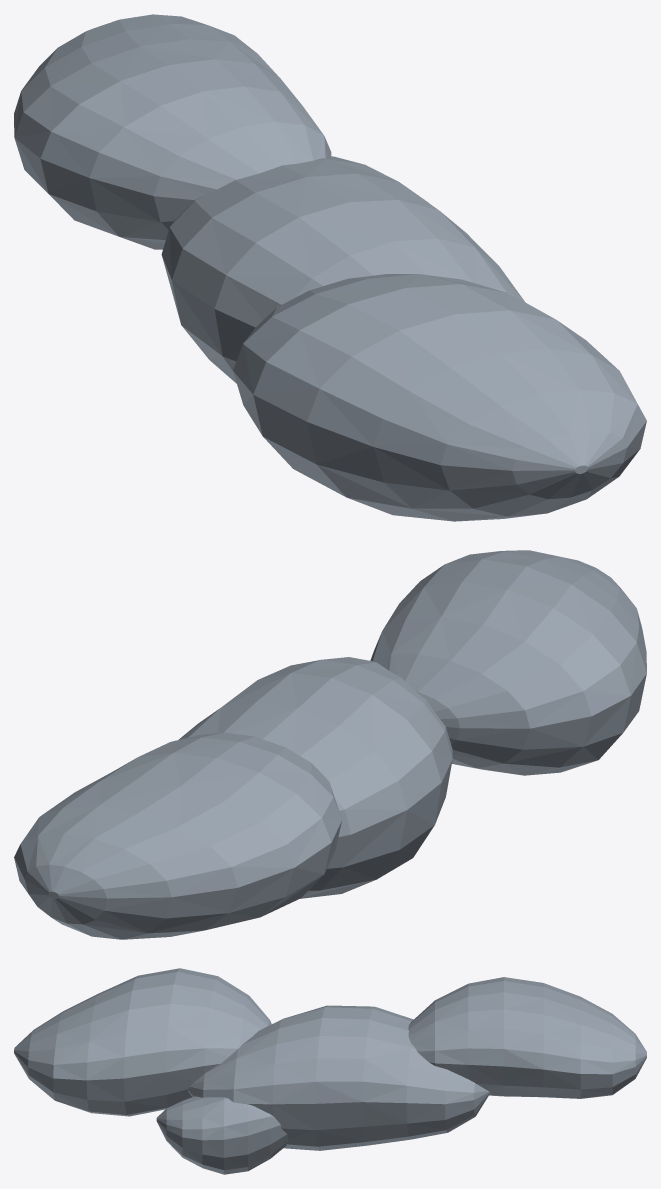
File: storm_rain_scud.glb
3 views of the same model, one above another, from view 1: azimuth 30°, elevation 25°; view 2: azimuth 150°, elevation 25°; view 3: azimuth 270°, elevation 25° (orthographic). The views are drawn at different scales.
Parts seen in each view (by area): view 1: Low rain scud descending fold 02, Low rain scud descending fold 00, Low rain scud descending fold 01; view 2: Low rain scud descending fold 00, Low rain scud descending fold 02, Low rain scud descending fold 01; view 3: Low rain scud descending fold 01, Low rain scud descending fold 02, Low rain scud descending fold 00, Low rain scud descending fold 03.
Part boxes in pixels (x1=…): Low rain scud descending fold 02: x1=233, y1=274, x2=646, y2=521; Low rain scud descending fold 00: x1=14, y1=14, x2=331, y2=249; Low rain scud descending fold 01: x1=161, y1=156, x2=525, y2=383; Low rain scud descending fold 00: x1=14, y1=732, x2=341, y2=939; Low rain scud descending fold 02: x1=370, y1=550, x2=646, y2=775; Low rain scud descending fold 01: x1=178, y1=657, x2=452, y2=898; Low rain scud descending fold 01: x1=188, y1=1005, x2=489, y2=1150; Low rain scud descending fold 02: x1=14, y1=968, x2=271, y2=1116; Low rain scud descending fold 00: x1=408, y1=977, x2=646, y2=1098; Low rain scud descending fold 03: x1=156, y1=1096, x2=288, y2=1174.
Bounding box in the file's own units: 654 × 438 × 1686.
